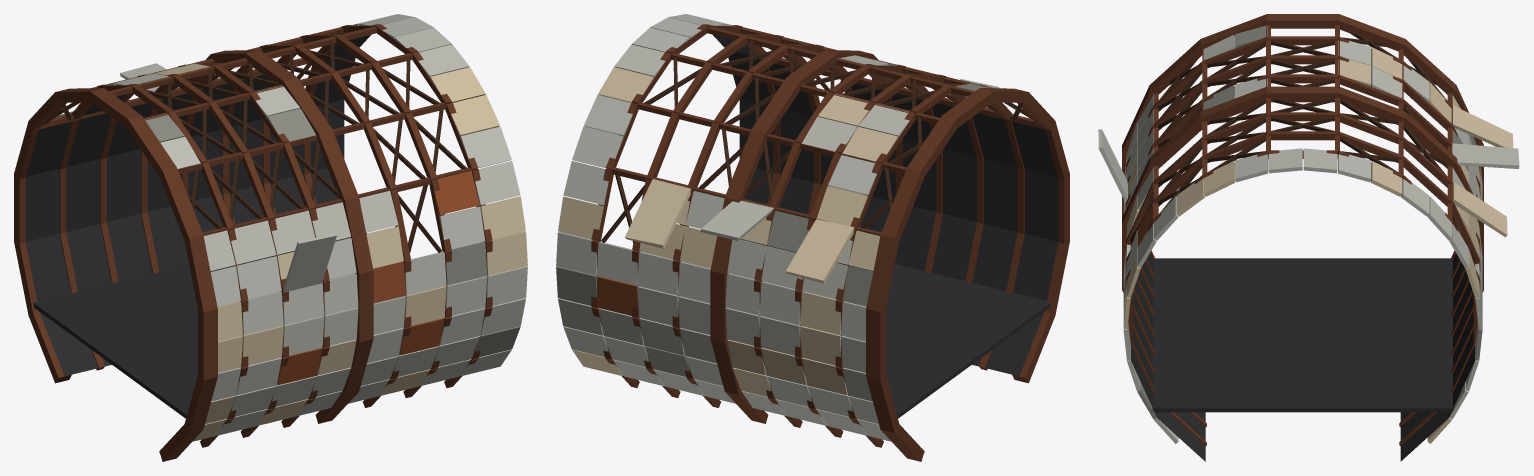
File: ship_hull_ribs.glb
3 renders of one model, left to right at view 1: azimuth 30°, elevation 25°; view 2: azimuth 150°, elevation 25°; view 3: azimuth 270°, elevation 25°, orthographic. The views are drawn at different scales.
Parts seen in each view (by area): view 1: ship_hull_ribs; view 2: ship_hull_ribs; view 3: ship_hull_ribs.
Boxes of the visible parts, x1,y1,x2,y2 form: ship_hull_ribs: [14, 14, 527, 461]; ship_hull_ribs: [556, 14, 1069, 461]; ship_hull_ribs: [1098, 14, 1519, 461].
Size of the model in its own units: 32 by 29.81 by 37.52.
